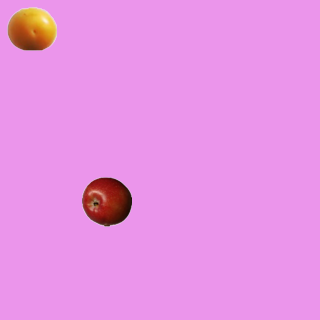Apple Braeburn: (81, 176, 131, 226)
Cherry Wax Yellow: (6, 3, 56, 53)
